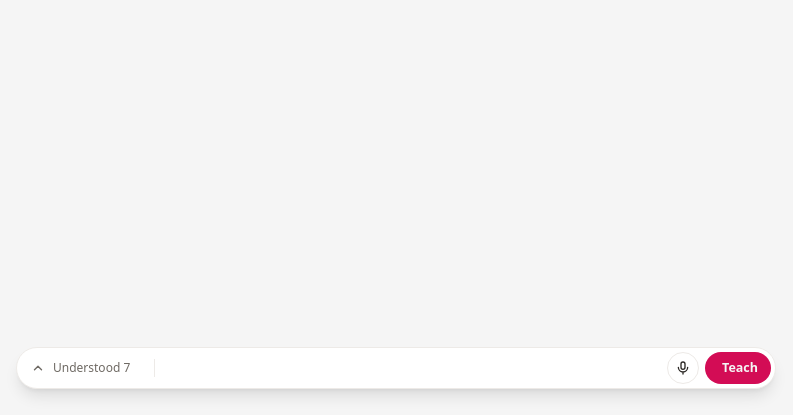
Test: teach bar disclosure › starts collapsed with the latest caption on one line, and opens to the history and a text area
This screenshot has width=793, height=415.
Expected: the text with id "captionKicker" reads "Understood 7", [53,359,130,376]
Click the button with id "teachMore" at (86, 368), box [23,352,148,384]
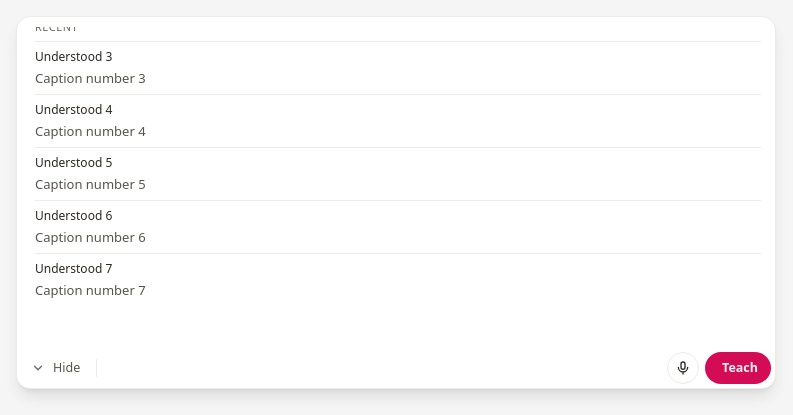
Now the button with id "teachMore" is expanded
Click the button with id "teachMore" at (57, 368), box [23,352,90,384]
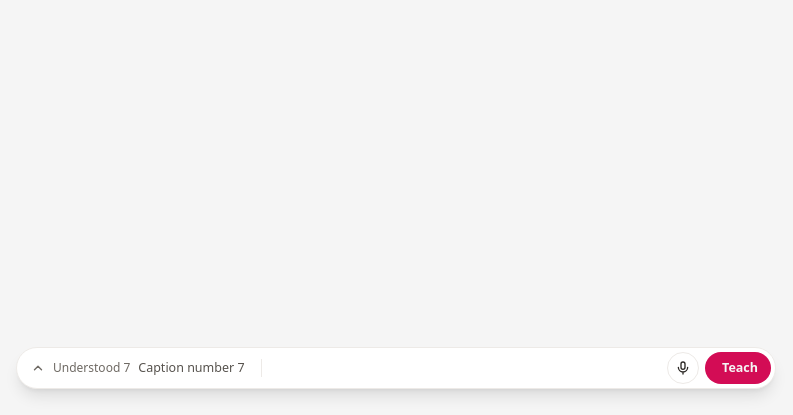
Now the button with id "teachMore" is collapsed, box [23,352,255,384]
